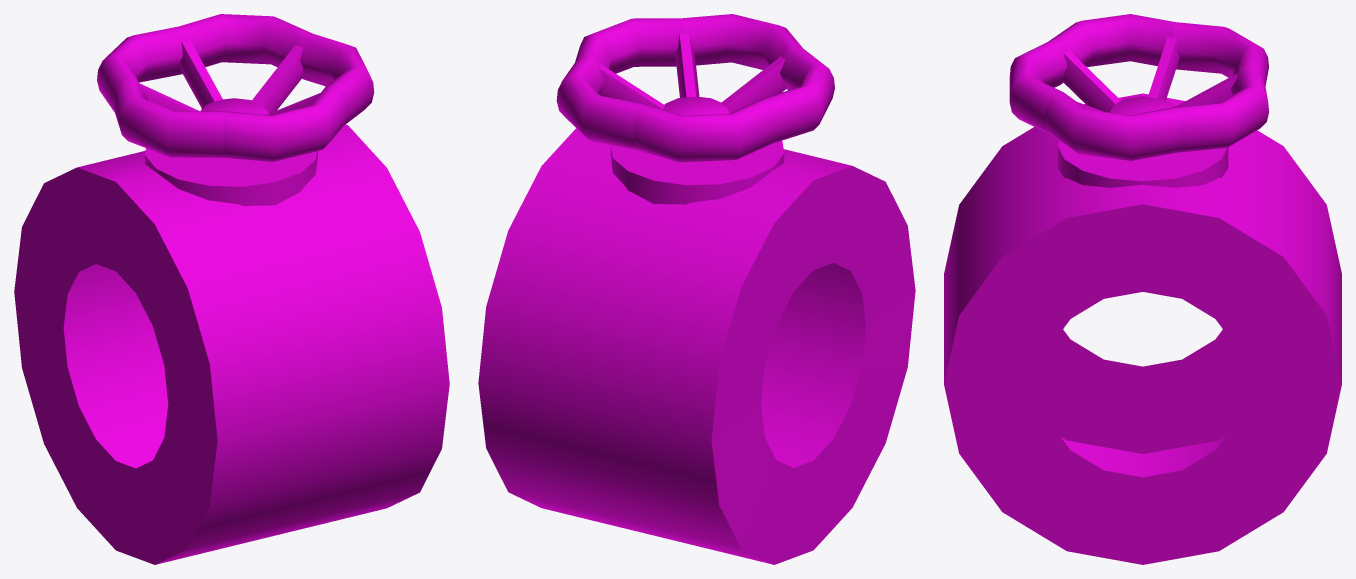
File: SM_Valve.fbx
The picture shows the model from 3 angles, left to right: view 1: azimuth 30°, elevation 25°; view 2: azimuth 150°, elevation 25°; view 3: azimuth 270°, elevation 25°; orthographic projection. The views are drawn at different scales.
Visible parts, largest first — view 1: pCylinder102; view 2: pCylinder102; view 3: pCylinder102.
Boxes of the visible parts, <box> form: pCylinder102: <box>14,14,449,564</box>; pCylinder102: <box>478,14,915,564</box>; pCylinder102: <box>944,14,1341,564</box>.
Size of the model in its own units: 195 by 351 by 284.
